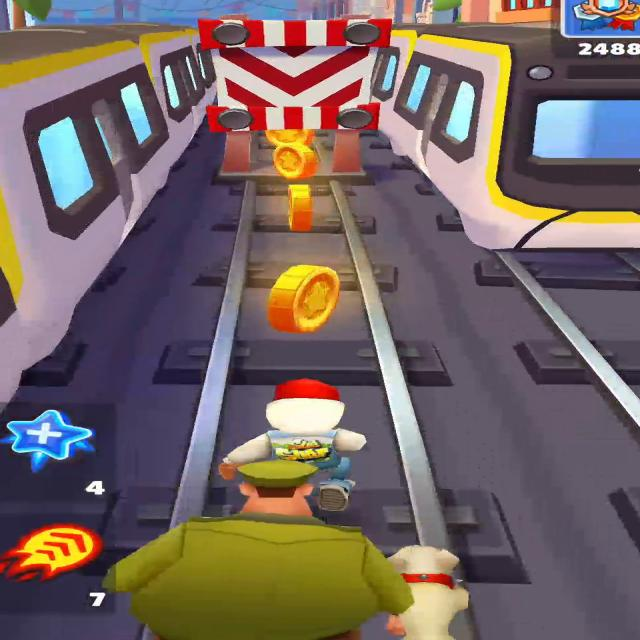jump-barrier: (199, 15, 393, 178)
police: (93, 458, 421, 640)
train: (0, 26, 213, 384), (386, 22, 636, 248), (109, 23, 214, 158)
